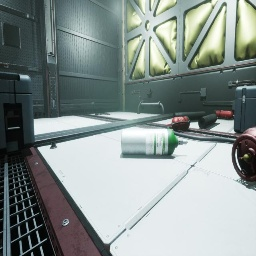0: (121, 129, 188, 156)
FireExtinguisher ]: (166, 116, 190, 131), (213, 110, 234, 120), (173, 122, 173, 122)
NitrogenTank ,: (231, 126, 256, 182)
